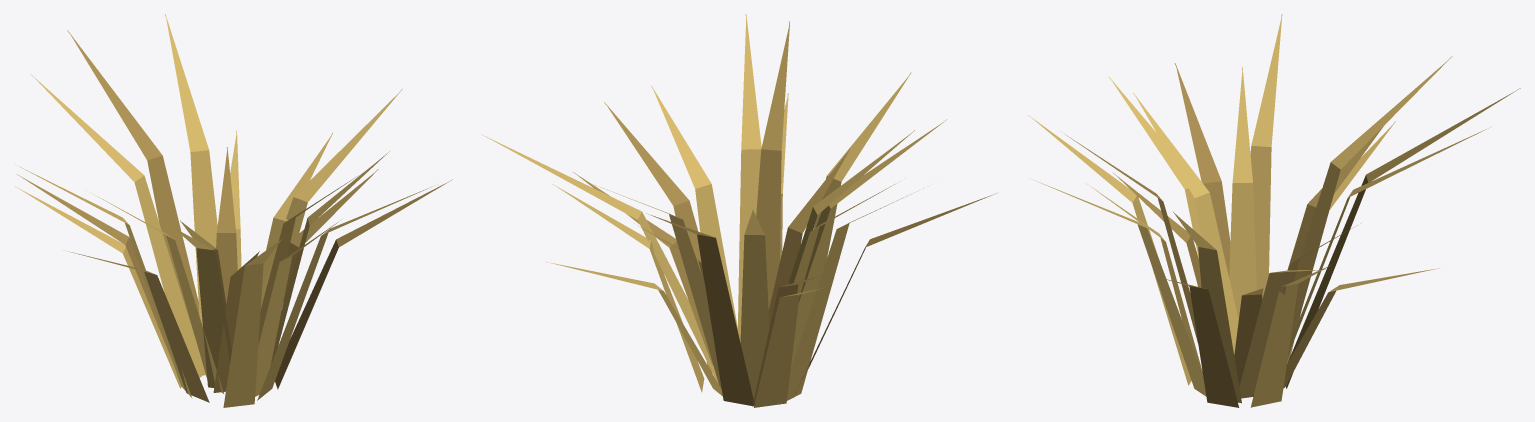
The model's file is grass_tuft.glb.
The picture shows the model from 3 angles, left to right: view 1: azimuth 30°, elevation 25°; view 2: azimuth 150°, elevation 25°; view 3: azimuth 270°, elevation 25°; orthographic projection. The views are drawn at different scales.
Parts seen in each view (by area): view 1: grass_tuft; view 2: grass_tuft; view 3: grass_tuft.
Boxes of the visible parts, x1,y1,x2,y2 form: grass_tuft: (15, 14, 452, 407); grass_tuft: (481, 14, 996, 407); grass_tuft: (1028, 14, 1520, 407).
Bounding box in the file's own units: 0.6486 × 0.4069 × 0.632.
